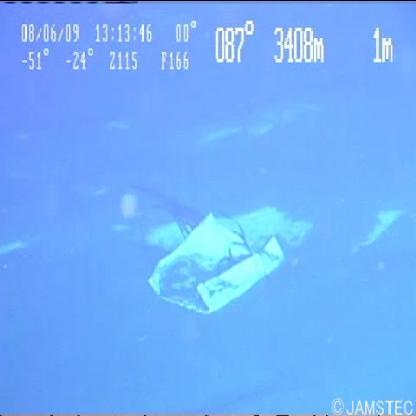Rác: (99, 171, 332, 327)
